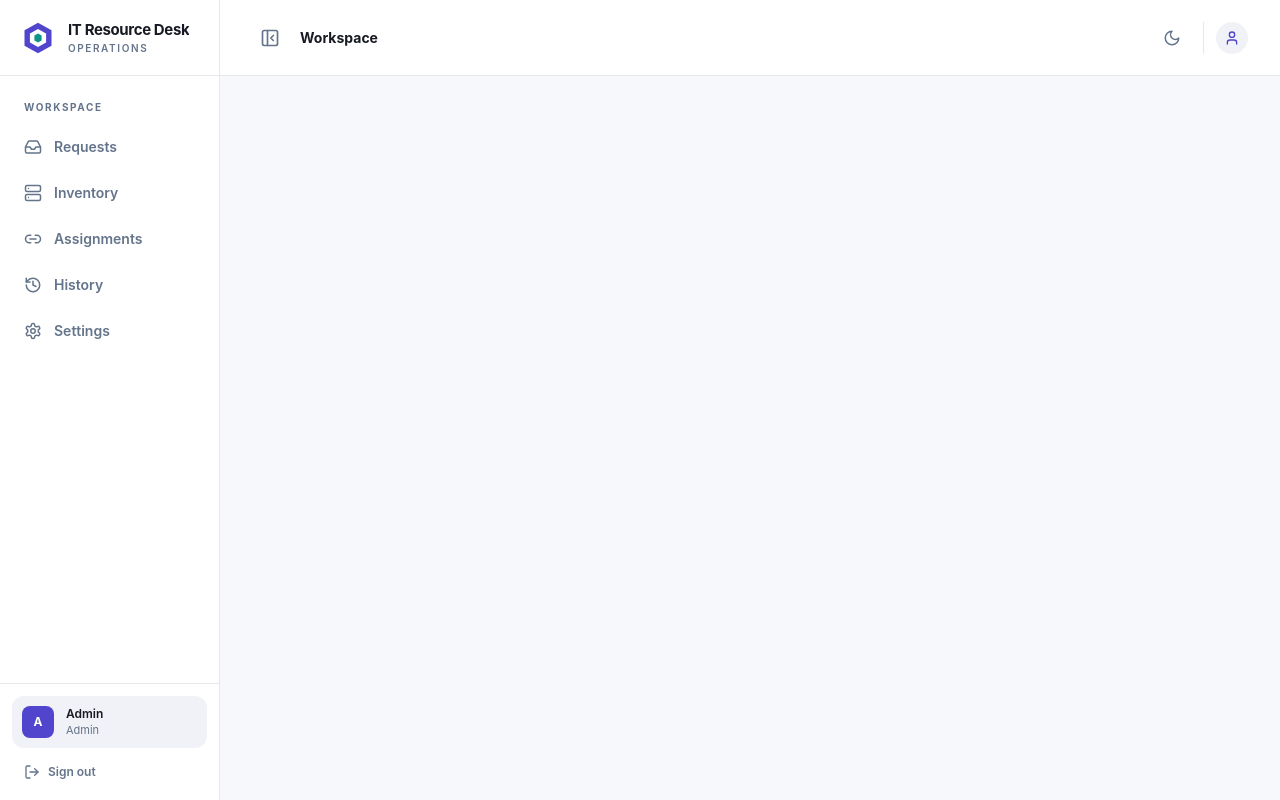
Scenario: admin layout theme › switches theme and persists the preference
This screenshot has width=1280, height=800.
expect the link "Requests" is shown: met, box [24,138,117,156]
expect the link "Inventory" is shown: met, box [24,184,118,202]
What coordinates should you click on to do the following:
click the button named "Switch to dark mode"
I would click on:
 (1172, 38)
Its box is [1153,18,1191,56].
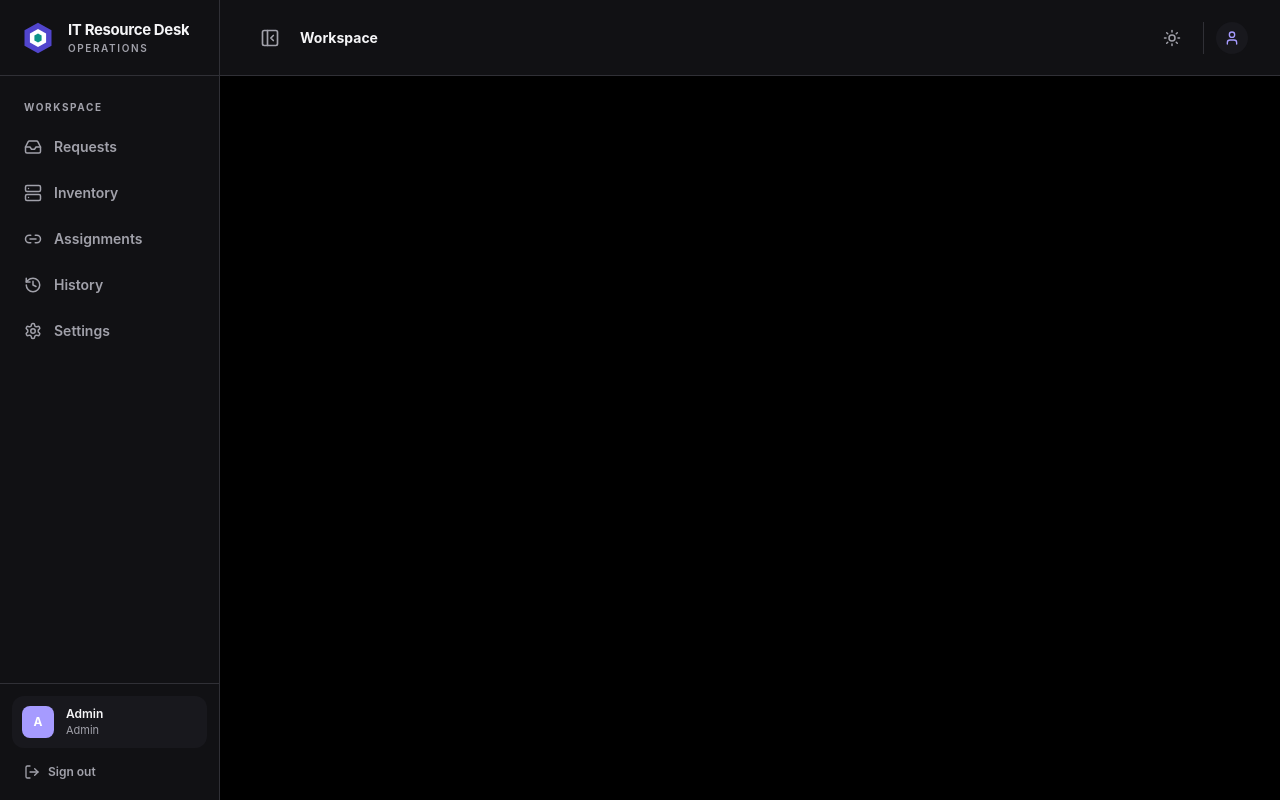
expect the button named "Switch to light mode" is shown: met, box [1153,18,1191,56]
